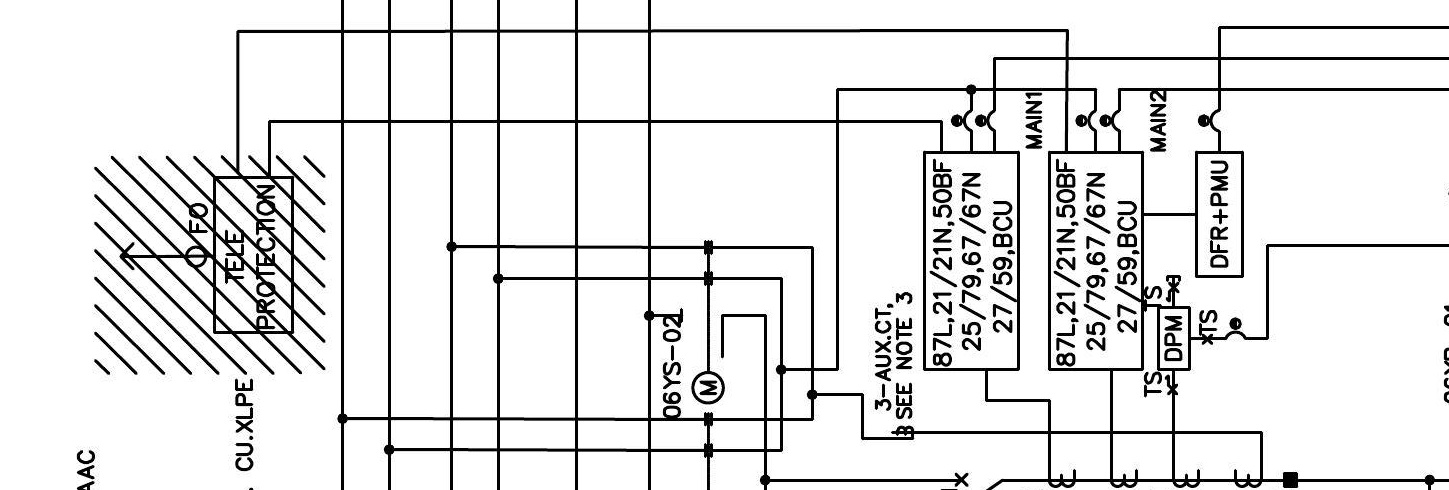115_1way_ds_w_motor: (679, 307, 726, 406)
DPM: (1156, 304, 1192, 372)
tele_protection: (210, 173, 297, 337)
